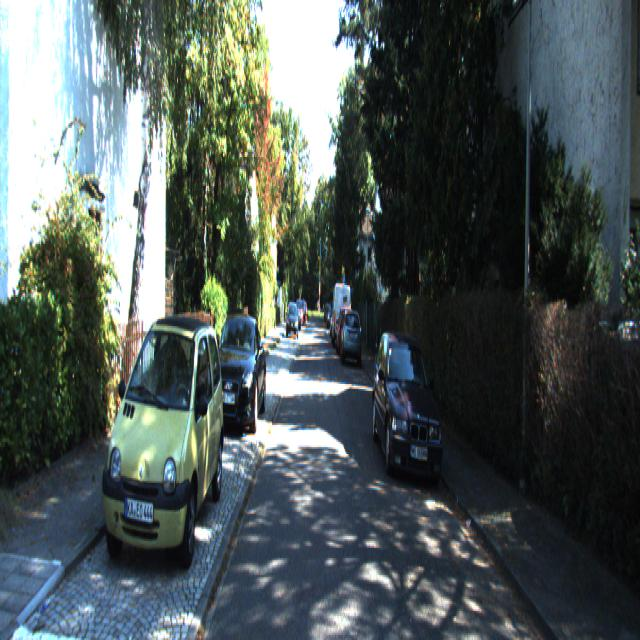Car: (104, 315, 226, 584), (370, 324, 446, 486), (209, 311, 266, 438), (332, 279, 352, 347), (341, 307, 362, 367)
